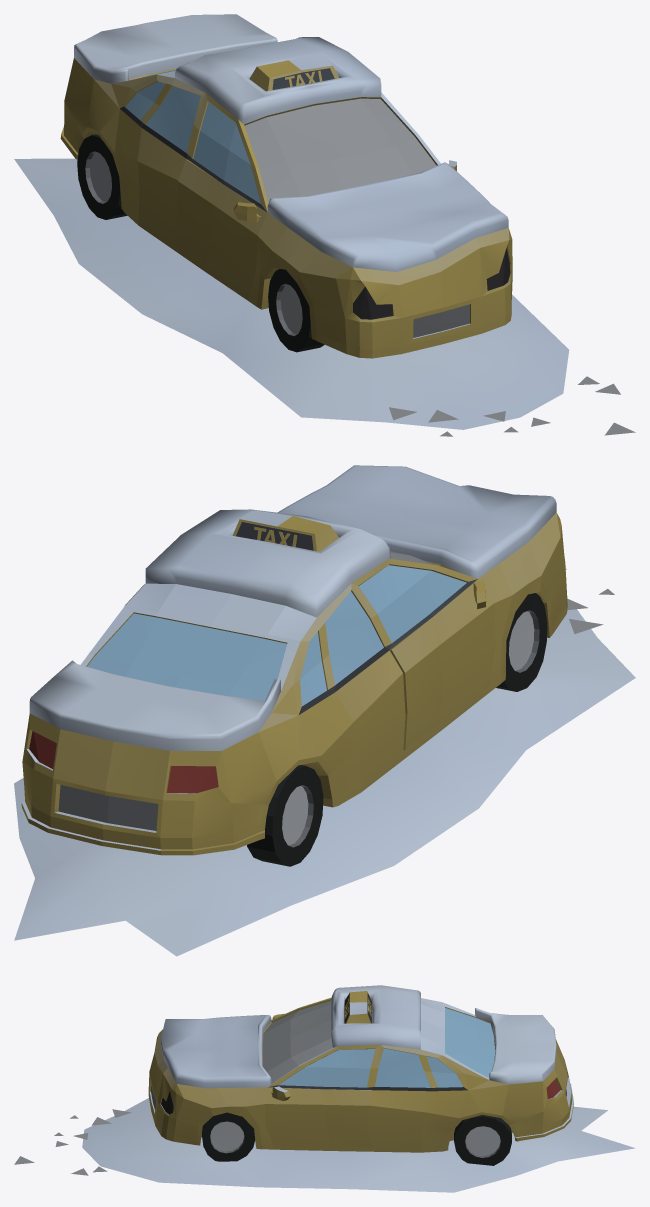
The model's file is taxi_crashed.glb.
3 renders of one model, top to bottom at view 1: azimuth 30°, elevation 25°; view 2: azimuth 150°, elevation 25°; view 3: azimuth 270°, elevation 25°, orthographic. The views are drawn at different scales.
Parts seen in each view (by area): view 1: Body, Glass; view 2: Body, Glass; view 3: Body, Glass.
Boxes of the visible parts, bbox=[...] form: Body: bbox=[14, 14, 635, 436]; Glass: bbox=[125, 70, 260, 203]; Body: bbox=[14, 465, 635, 956]; Glass: bbox=[87, 565, 466, 706]; Body: bbox=[14, 985, 635, 1192]; Glass: bbox=[278, 1008, 495, 1087].
Size of the model in its own units: 2.56 by 1.62 by 6.52.
